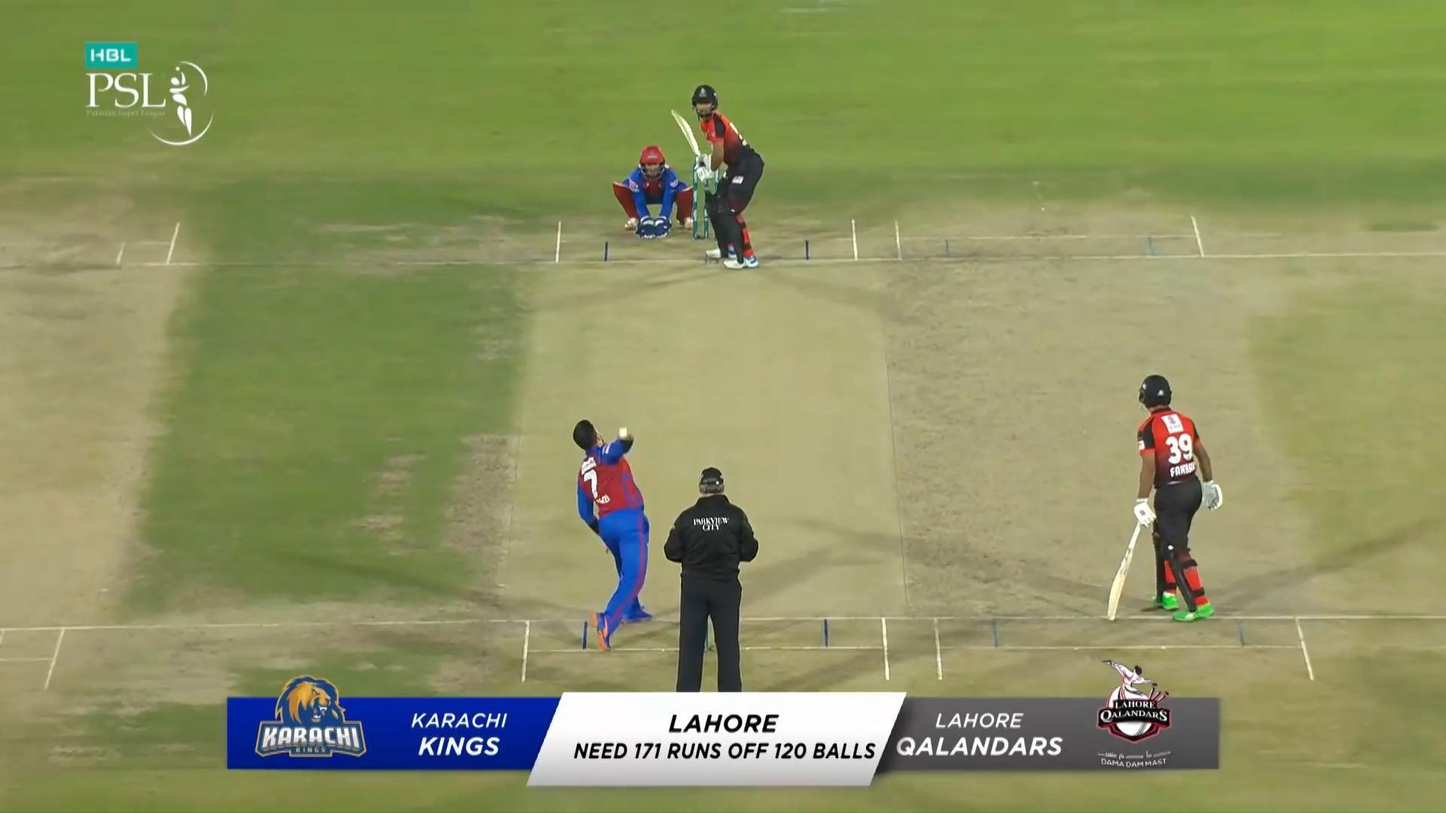BM 1: (671, 84, 765, 270)
BO: (571, 418, 651, 653)
